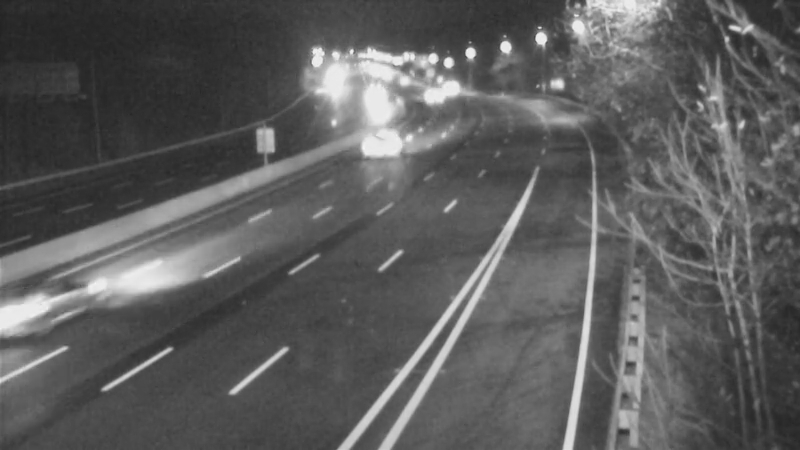vehicle: (1, 254, 103, 364), (342, 111, 422, 191), (375, 54, 425, 104), (428, 62, 478, 112), (410, 73, 460, 123), (345, 73, 395, 123)
